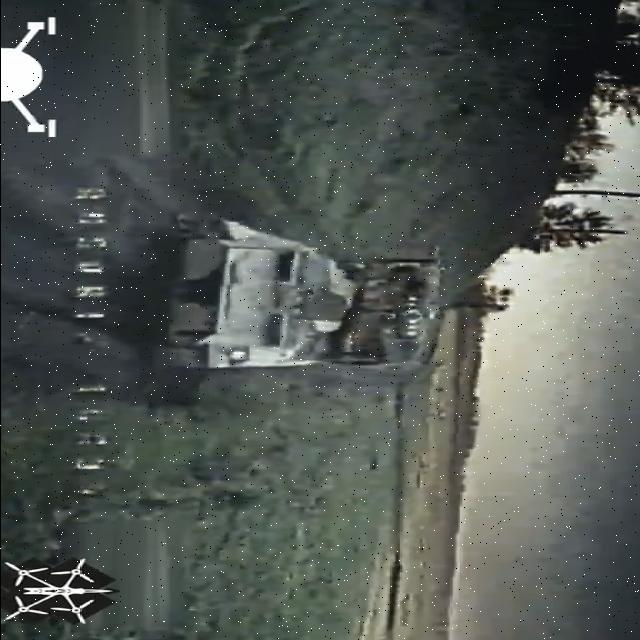APC-IFV: (149, 210, 448, 370)
